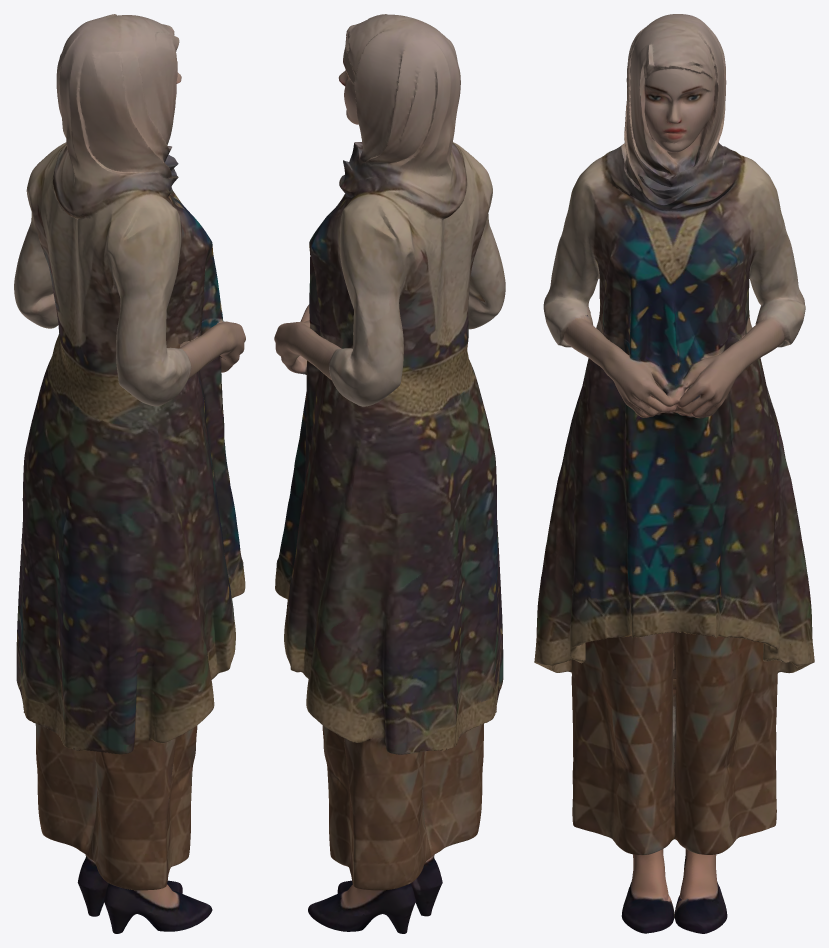
File: character16.glb
3 views of the same model, side by side, from view 1: azimuth 30°, elevation 25°; view 2: azimuth 150°, elevation 25°; view 3: azimuth 270°, elevation 25° (orthographic). The views are drawn at different scales.
Parts seen in each view (by area): view 1: tripo_node_222c8e9f-ba1c-499e-834a-c546f96b88f3; view 2: tripo_node_222c8e9f-ba1c-499e-834a-c546f96b88f3; view 3: tripo_node_222c8e9f-ba1c-499e-834a-c546f96b88f3.
Part boxes in pixels (bbox=[...]): tripo_node_222c8e9f-ba1c-499e-834a-c546f96b88f3: bbox=[14, 14, 245, 933]; tripo_node_222c8e9f-ba1c-499e-834a-c546f96b88f3: bbox=[274, 14, 505, 933]; tripo_node_222c8e9f-ba1c-499e-834a-c546f96b88f3: bbox=[534, 14, 814, 933].
Bounding box in the file's own units: 0.2102 × 1 × 0.29.
1 material, 1 textured.
